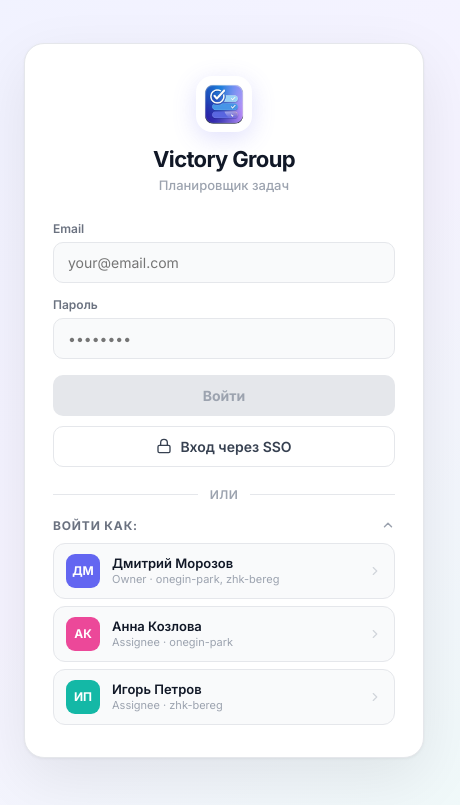
Test: LoginPage — dev mode › shows error message when login fails
Expected: the text "Анна Козлова" is shown, [112,618,202,634]
Click the button "АК Анна Козлова Assignee · onegin-park". click: (224,634)
box: [53,606,395,662]
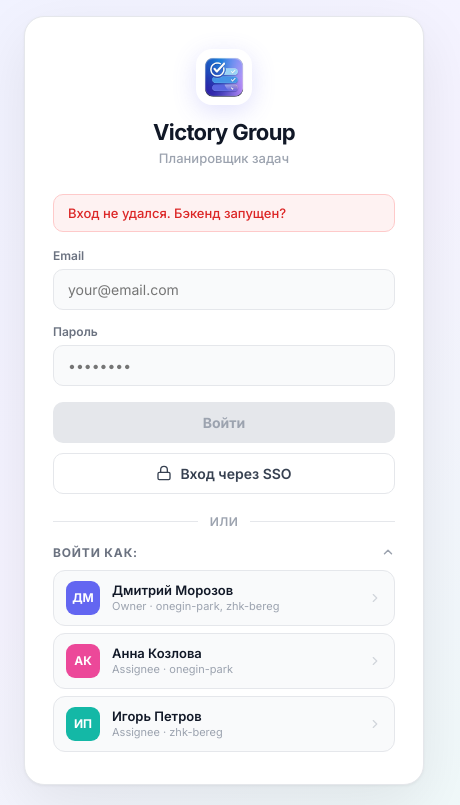
Now the text "Вход не удался. Бэкенд запущен?" is shown, box [53,194,395,232]
